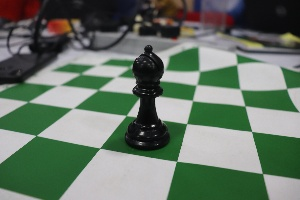black_bishop: (122, 39, 171, 158)
